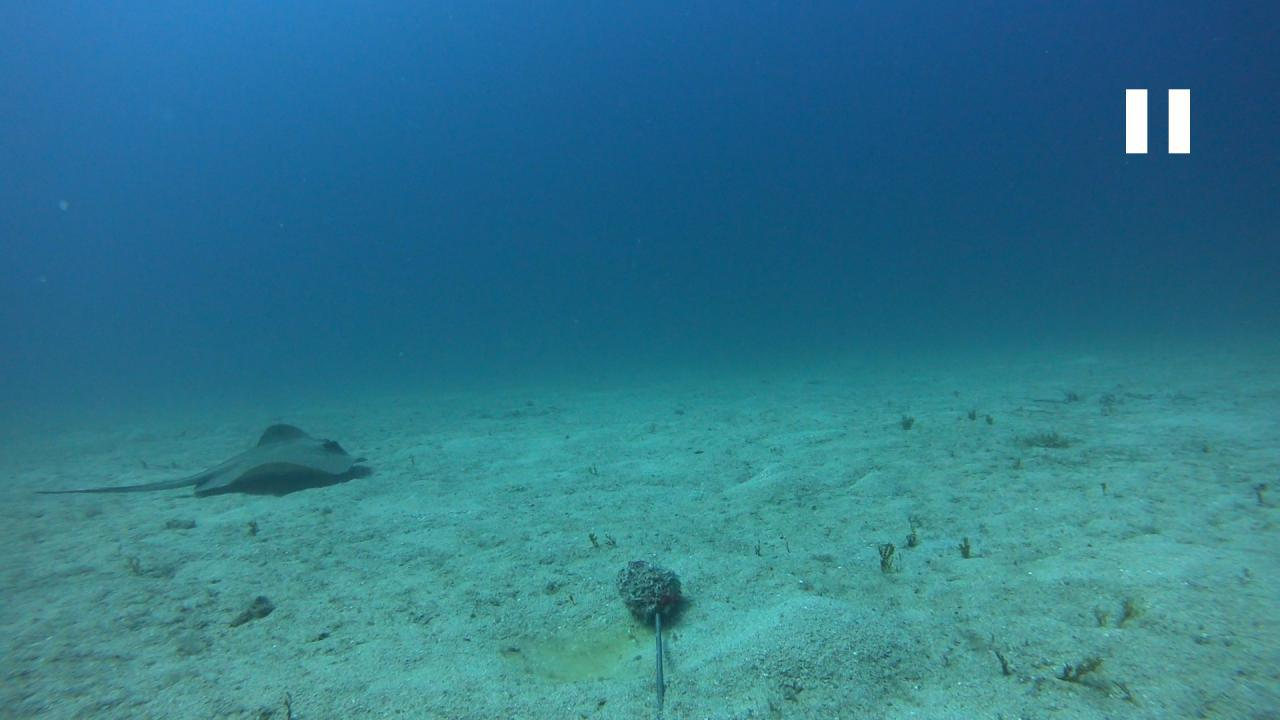dasyatis: (32, 421, 370, 496)
